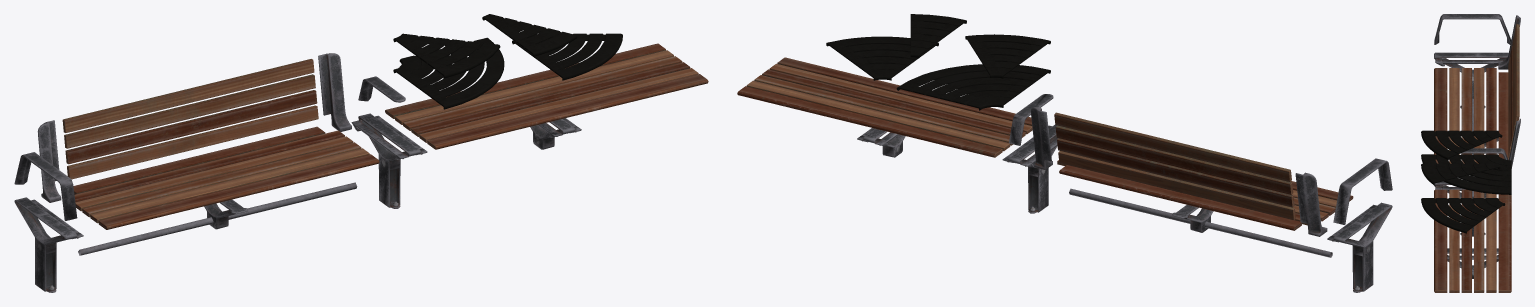
File: modular_street_seating.glb
3 renders of one model, left to right at view 1: azimuth 30°, elevation 25°; view 2: azimuth 150°, elevation 25°; view 3: azimuth 270°, elevation 25°, orthographic. The views are drawn at different scales.
Parts seen in each view (by area): view 1: seat_back, seat, seat_bench, connector_90, legs_double, connector_45, legs_single, connector_60, crossbar, connector_30, back_support_l, arm_rest_01 (+4 smaller); view 2: seat_bench, seat_back, connector_90, seat, connector_60, legs_single, connector_45, legs_double, crossbar, connector_30, arm_rest_01, back_support_r (+4 smaller); view 3: seat_bench, seat, connector_90, connector_60, connector_45, seat_back, connector_30, legs_single, arm_rest_01, arm_rest_02, back_support_r, legs_double (+3 smaller).
Boxes of the visible parts, <box> form: seat_back: <box>62,59,318,179</box>; seat: <box>73,126,379,229</box>; seat_bench: <box>385,43,708,149</box>; connector_90: <box>393,37,504,109</box>; legs_double: <box>351,113,427,208</box>; connector_45: <box>393,33,500,78</box>; legs_single: <box>14,197,83,292</box>; connector_60: <box>512,33,622,80</box>; crossbar: <box>78,182,357,255</box>; connector_30: <box>482,14,577,56</box>; back_support_l: <box>318,53,351,131</box>; arm_rest_01: <box>14,152,77,220</box>; seat_bench: <box>737,57,1032,157</box>; seat_back: <box>1054,112,1295,220</box>; connector_90: <box>896,64,1050,110</box>; seat: <box>1057,160,1353,230</box>; connector_60: <box>826,36,938,80</box>; legs_single: <box>1327,202,1392,292</box>; connector_45: <box>965,34,1050,78</box>; legs_double: <box>1002,124,1058,213</box>; crossbar: <box>1069,188,1332,257</box>; connector_30: <box>910,14,966,57</box>; arm_rest_01: <box>1333,158,1392,224</box>; back_support_r: <box>1295,172,1327,236</box>; seat_bench: <box>1434,189,1511,292</box>; seat: <box>1434,68,1508,163</box>; connector_90: <box>1421,154,1511,194</box>; connector_60: <box>1421,198,1505,233</box>; connector_45: <box>1421,130,1502,160</box>; seat_back: <box>1508,24,1519,157</box>; connector_30: <box>1421,163,1500,184</box>; legs_single: <box>1434,52,1508,108</box>; arm_rest_01: <box>1434,14,1511,44</box>; arm_rest_02: <box>1460,148,1508,159</box>; back_support_r: <box>1498,15,1520,69</box>; legs_double: <box>1434,180,1486,236</box>.
Size of the model in its own units: 4.34 by 0.95 by 0.7704.
5 materials, 5 textured.
